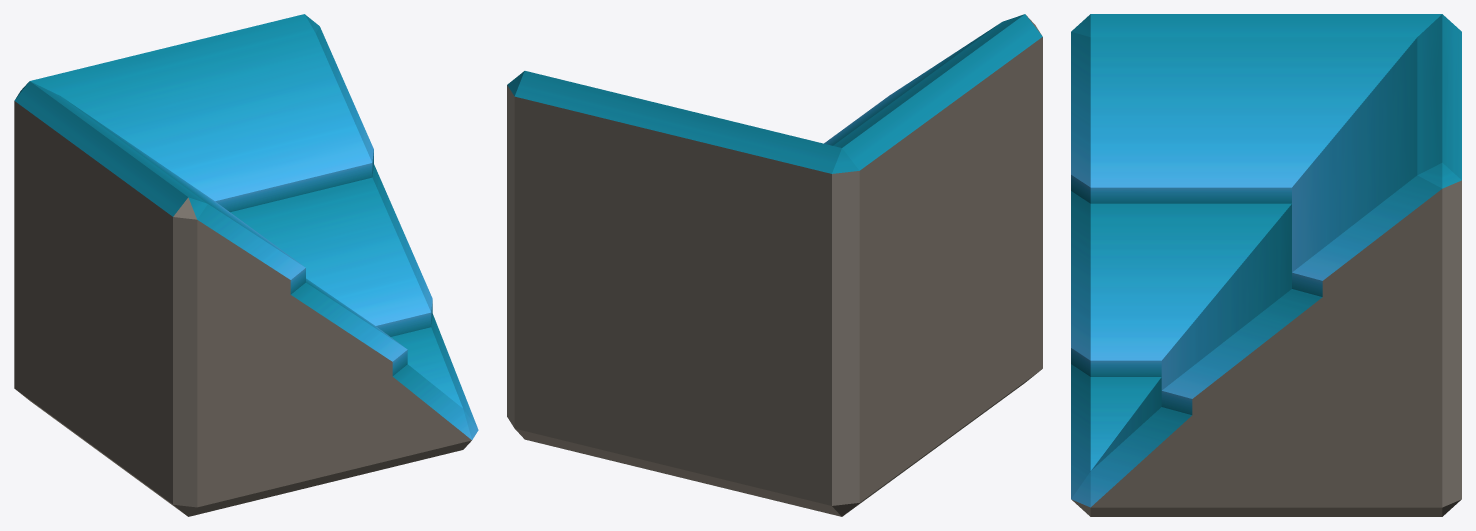
The model's file is m_m_kub_roofBlue_cornerIn.FBX.
3 renders of one model, left to right at view 1: azimuth 30°, elevation 25°; view 2: azimuth 150°, elevation 25°; view 3: azimuth 270°, elevation 25°, orthographic. The views are drawn at different scales.
Visible parts, largest first — view 1: kub_roofBlue_cornerIn; view 2: kub_roofBlue_cornerIn; view 3: kub_roofBlue_cornerIn.
Part boxes in pixels (x1=…): kub_roofBlue_cornerIn: x1=14, y1=14, x2=478, y2=516; kub_roofBlue_cornerIn: x1=507, y1=14, x2=1042, y2=516; kub_roofBlue_cornerIn: x1=1071, y1=14, x2=1461, y2=516.
Bounding box in the file's own units: 2 × 2 × 2.
